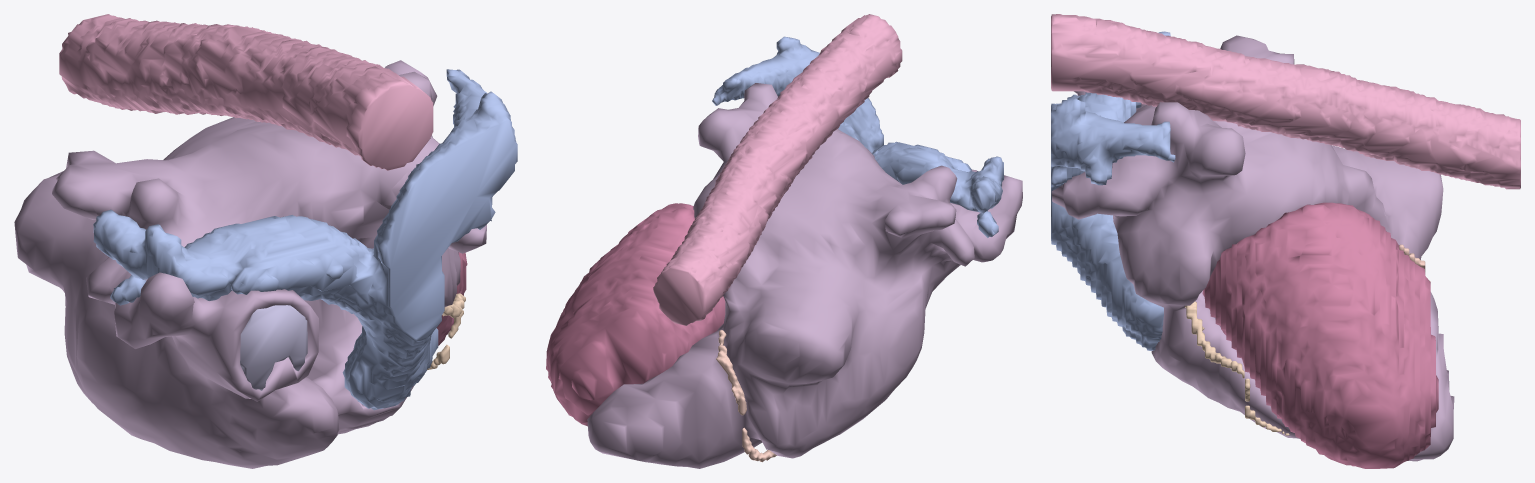
3 renders of one model, left to right at view 1: azimuth 30°, elevation 25°; view 2: azimuth 150°, elevation 25°; view 3: azimuth 270°, elevation 25°, orthographic. The views are drawn at different scales.
Parts seen in each view (by area): view 1: heart-wall, pulmonary-artery, aorta, right-atrium, left-coronary-artery, myocardium; view 2: heart-wall, aorta, myocardium, pulmonary-artery, right-coronary-artery; view 3: heart-wall, myocardium, aorta, pulmonary-artery, left-coronary-artery.
Part boxes in pixels (x1,y1,x2,y2): heart-wall: (14, 60, 486, 468); pulmonary-artery: (93, 69, 517, 410); aorta: (59, 14, 433, 170); right-atrium: (240, 305, 307, 390); left-coronary-artery: (427, 293, 465, 369); myocardium: (436, 252, 467, 345); heart-wall: (587, 83, 1022, 468); aorta: (653, 14, 902, 325); myocardium: (546, 203, 725, 426); pulmonary-artery: (712, 36, 1003, 237); right-coronary-artery: (716, 330, 776, 462); heart-wall: (1051, 35, 1454, 461); myocardium: (1202, 202, 1438, 468); aorta: (1051, 14, 1520, 189); pulmonary-artery: (1051, 31, 1175, 350); left-coronary-artery: (1185, 301, 1289, 435).
Size of the model in its own units: 137 by 130 by 142.
